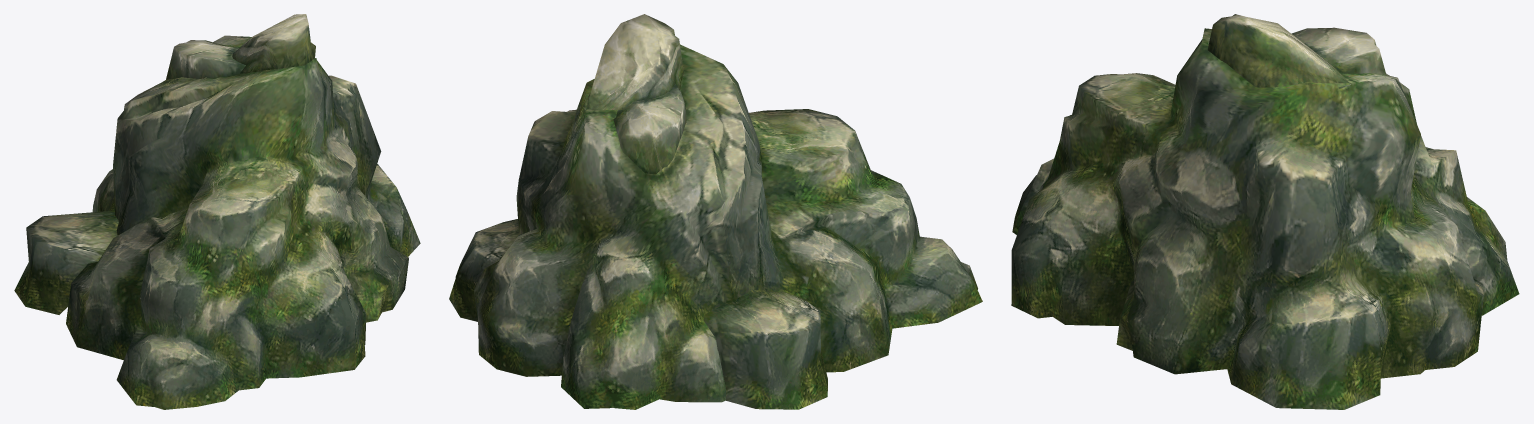
File: 4004_Item_shitou_4.FBX
3 views of the same model, side by side, from view 1: azimuth 30°, elevation 25°; view 2: azimuth 150°, elevation 25°; view 3: azimuth 270°, elevation 25° (orthographic). The views are drawn at different scales.
Visible parts, largest first — view 1: 4004_Item_shitou_4; view 2: 4004_Item_shitou_4; view 3: 4004_Item_shitou_4.
Part boxes in pixels (box(x1,y1,x2,y2)): 4004_Item_shitou_4: box(14, 14, 420, 409); 4004_Item_shitou_4: box(449, 14, 982, 409); 4004_Item_shitou_4: box(1011, 14, 1519, 409).
Bounding box in the file's own units: 354 × 348 × 237.
